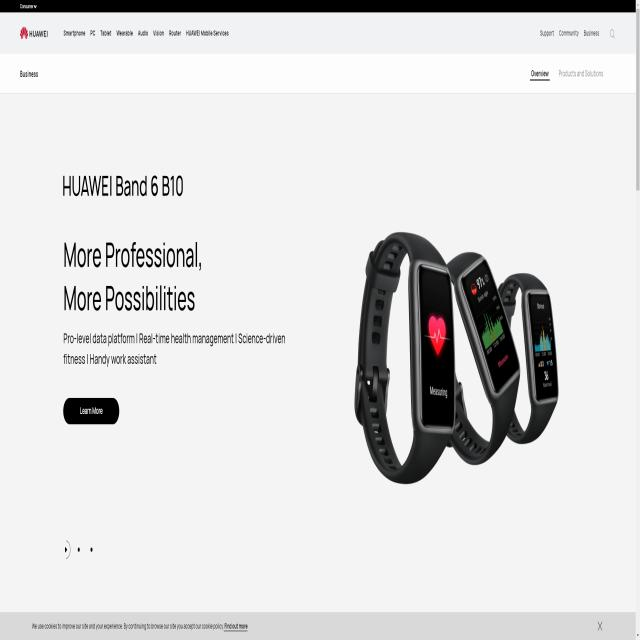menu-bar: (532, 17, 620, 50)
tab-bar: (16, 20, 235, 48)
